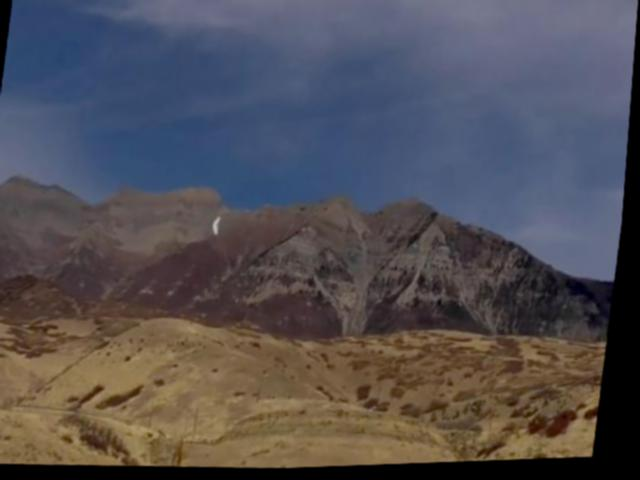flying wing: (213, 217, 227, 241)
